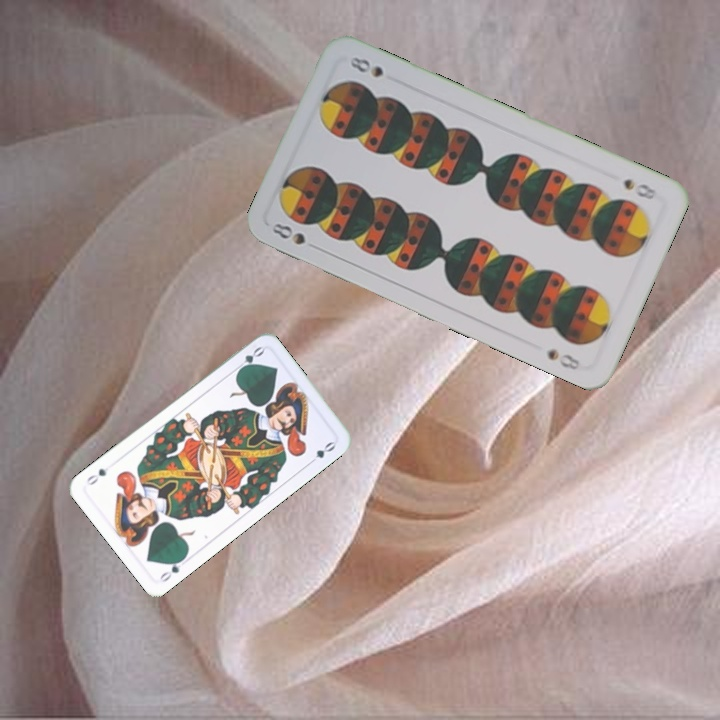GO: (231, 342, 267, 376), (155, 553, 189, 585)
S8: (268, 219, 308, 248), (619, 174, 660, 202)
